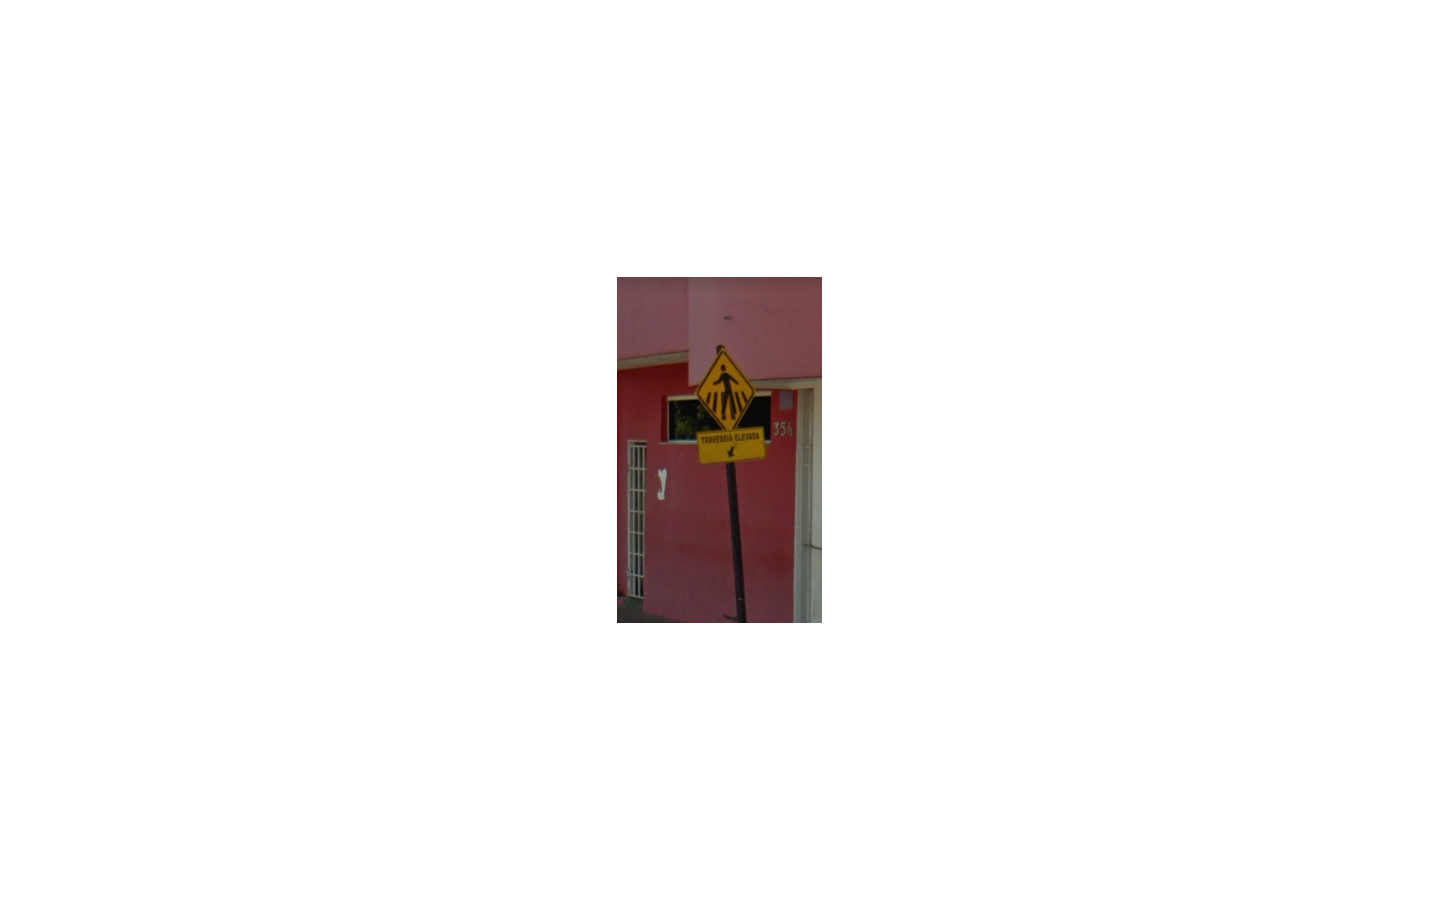telev: (694, 348, 766, 465)
